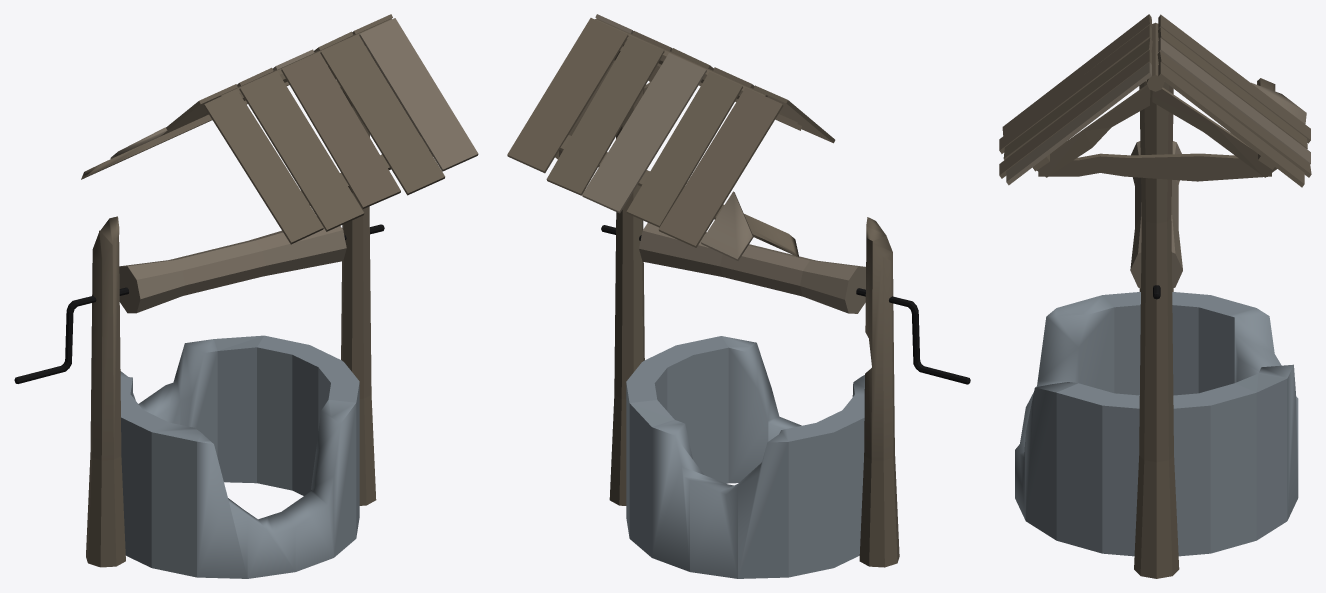
File: broken well.glb
The picture shows the model from 3 angles, left to right: view 1: azimuth 30°, elevation 25°; view 2: azimuth 150°, elevation 25°; view 3: azimuth 270°, elevation 25°; orthographic projection. The views are drawn at different scales.
Parts seen in each view (by area): view 1: Well; view 2: Well; view 3: Well.
Part boxes in pixels (x1,y1,x2,y2): Well: (14, 14, 478, 578); Well: (507, 14, 970, 578); Well: (999, 14, 1311, 578).
Bounding box in the file's own units: 2.29 × 2.61 × 1.43.
Materials: 1 (1 with a texture image).
